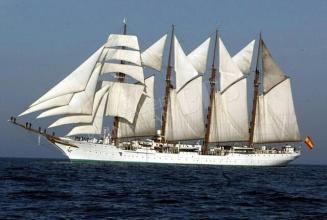fanchuan: (7, 19, 317, 167)
